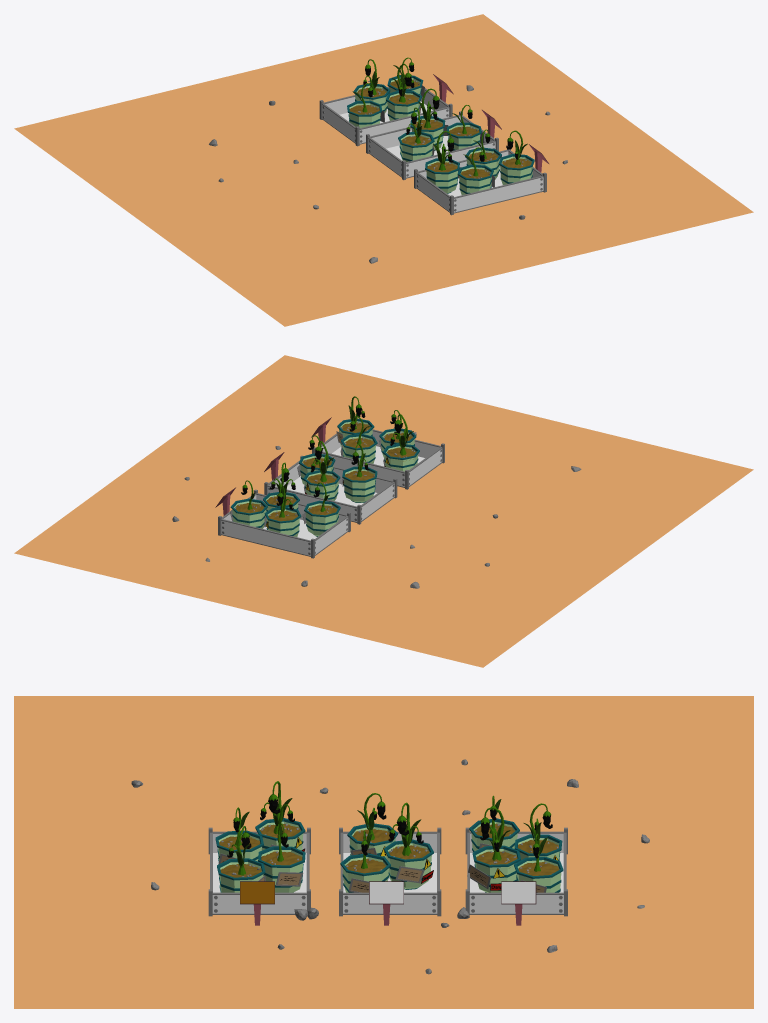
The model's file is garden_new.fbx.
3 renders of one model, top to bottom at view 1: azimuth 30°, elevation 25°; view 2: azimuth 150°, elevation 25°; view 3: azimuth 270°, elevation 25°, orthographic. The views are drawn at different scales.
Parts seen in each view (by area): view 1: Plane.054, Plane.048, Plane.034, Plane.021, Circle.040, Circle.038, Circle.028, Circle.024, Circle.006, Circle.005, Circle.030; view 2: Plane.054, Plane.021, Plane.048, Plane.034, Circle.024, Circle.005, Circle.015, Circle.003, Circle.026, Circle.034, Circle.040; view 3: Plane.054, Plane.034, Plane.021, Plane.048, Circle.026, Circle.006, Circle.034, Circle.015, Circle.030, Circle.038, Plane.060, Plane.058 (+9 smaller).
Boxes of the visible parts, box(x1,y1,x2,y2) form: Plane.054: box(14, 14, 753, 326); Plane.048: box(414, 146, 546, 215); Plane.034: box(366, 111, 498, 180); Plane.021: box(319, 86, 452, 146); Circle.040: box(425, 158, 459, 193); Circle.038: box(498, 154, 534, 184); Circle.028: box(457, 164, 493, 194); Circle.024: box(398, 132, 434, 162); Circle.006: box(386, 90, 421, 120); Circle.005: box(347, 100, 381, 127); Circle.030: box(446, 122, 481, 150); Plane.054: box(14, 355, 753, 667); Plane.021: box(218, 489, 350, 558); Plane.048: box(312, 429, 444, 489); Plane.034: box(264, 455, 397, 524); Circle.024: box(342, 466, 377, 502); Circle.005: box(304, 500, 340, 536); Circle.015: box(230, 498, 267, 528); Circle.003: box(264, 507, 301, 536); Circle.026: box(303, 470, 340, 500); Circle.034: box(341, 433, 377, 463); Circle.040: box(383, 443, 419, 471); Plane.054: box(14, 696, 753, 1008); Plane.034: box(339, 827, 441, 916); Plane.021: box(465, 827, 567, 916); Plane.048: box(208, 827, 310, 916); Circle.026: box(384, 839, 433, 889); Circle.006: box(472, 845, 520, 892); Circle.034: box(258, 846, 305, 892); Circle.015: box(514, 856, 563, 892); Circle.030: box(340, 853, 390, 892); Circle.038: box(217, 858, 265, 892); Plane.060: box(240, 882, 274, 903); Plane.058: box(369, 882, 403, 903).
Bounding box in the file's own units: 10164 × 1403 × 10164.
